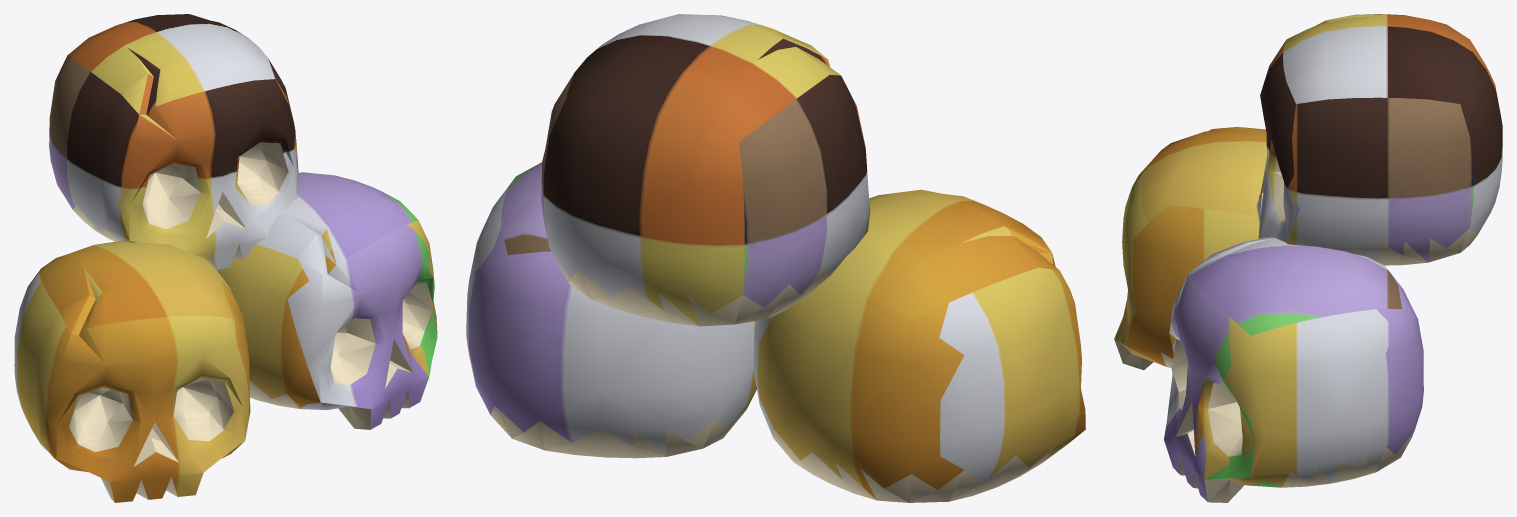
Rendered from EVHalloween_Decor_SkullPile.fbx.
3 renders of one model, left to right at view 1: azimuth 30°, elevation 25°; view 2: azimuth 150°, elevation 25°; view 3: azimuth 270°, elevation 25°, orthographic. The views are drawn at different scales.
Visible parts, largest first — view 1: EVHalloween_Decor_PumpkinOrange; view 2: EVHalloween_Decor_PumpkinOrange; view 3: EVHalloween_Decor_PumpkinOrange.
Part boxes in pixels (bbox=[...]): EVHalloween_Decor_PumpkinOrange: bbox=[14, 14, 437, 502]; EVHalloween_Decor_PumpkinOrange: bbox=[466, 14, 1085, 502]; EVHalloween_Decor_PumpkinOrange: bbox=[1114, 14, 1502, 502].
Bounding box in the file's own units: 36.35 × 30.09 × 27.29.
